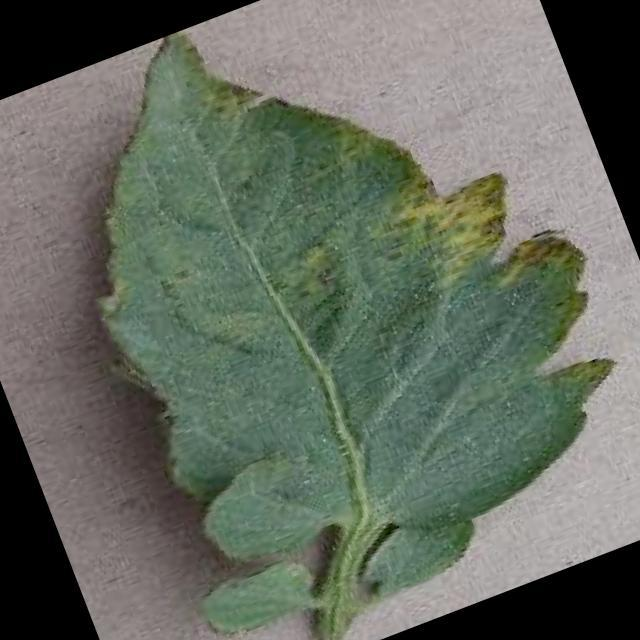Tomato bacterial spot leaf: (1, 0, 640, 626)
